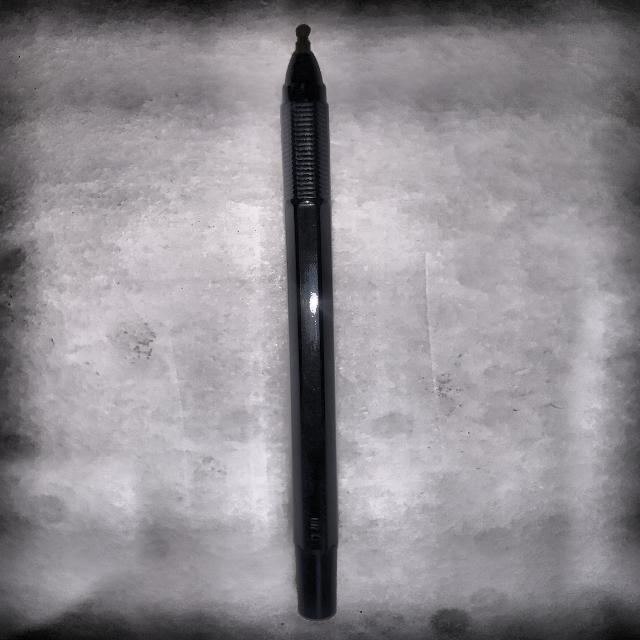Pulpen: (262, 13, 372, 632)
